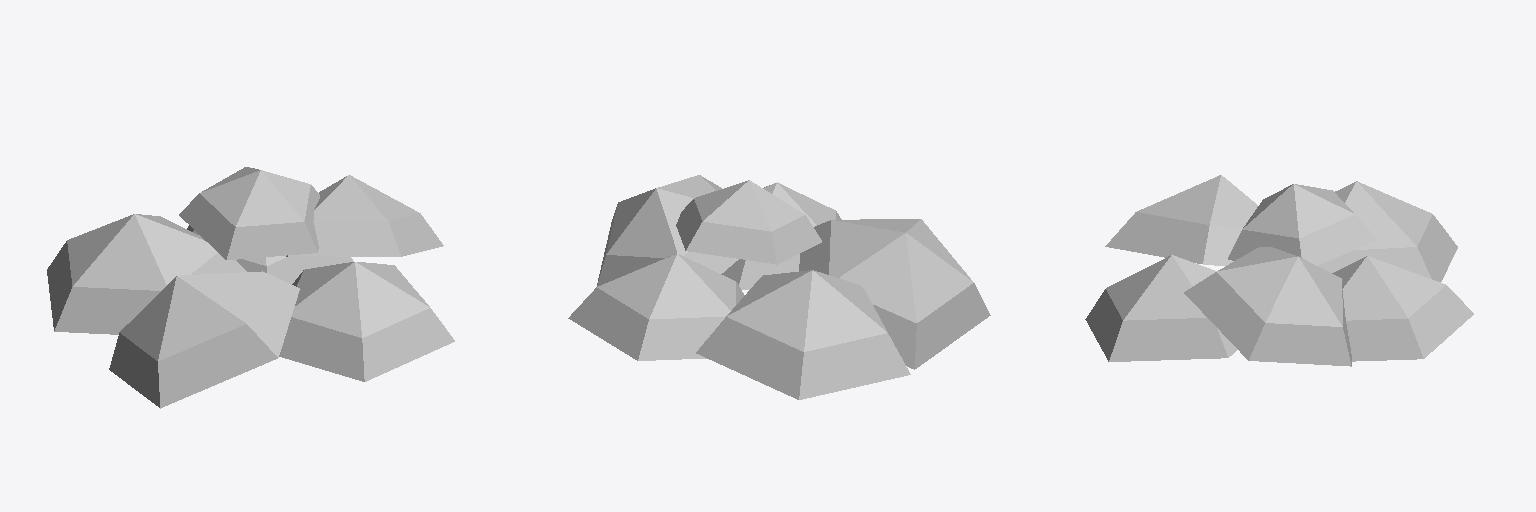
File: smallBush.obj
3 views of the same model, side by side, from view 1: azimuth 30°, elevation 25°; view 2: azimuth 150°, elevation 25°; view 3: azimuth 270°, elevation 25° (orthographic).
Parts seen in each view (by area): view 1: Circle; view 2: Circle; view 3: Circle.
Part boxes in pixels (x1,y1,x2,y2): Circle: (47,167,454,408); Circle: (568,175,990,399); Circle: (1085,175,1473,366).
Bounding box in the file's own units: 1.45 × 0.6276 × 1.42.